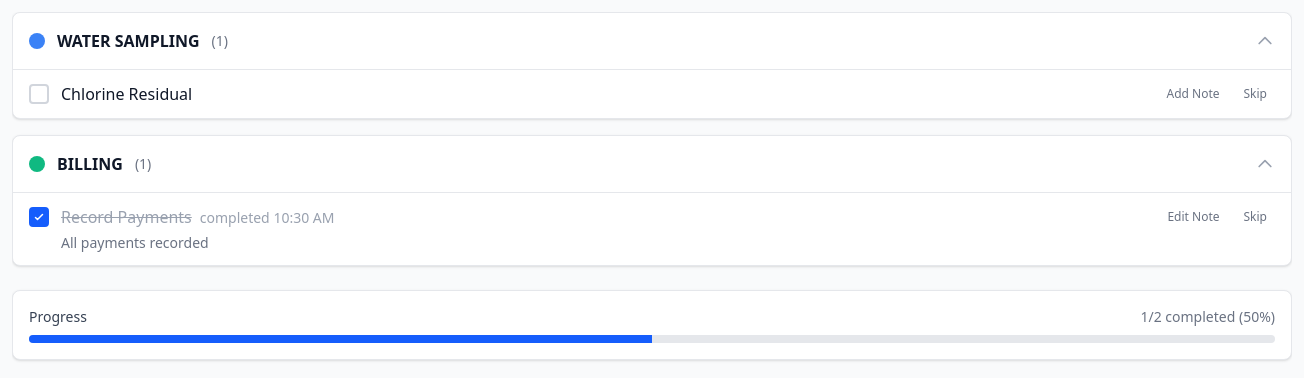
Test: DailyView › can expand and collapse category sections
Expected: the text "WATER SAMPLING" is shown, x1=57 y1=29 x2=200 y2=53
Expected: the button "Chlorine Residual" is shown, x1=61 y1=82 x2=192 y2=106
Click the button "WATER SAMPLING (1)". click: {"x": 128, "y": 41}
box: x1=13 y1=13 x2=1291 y2=69
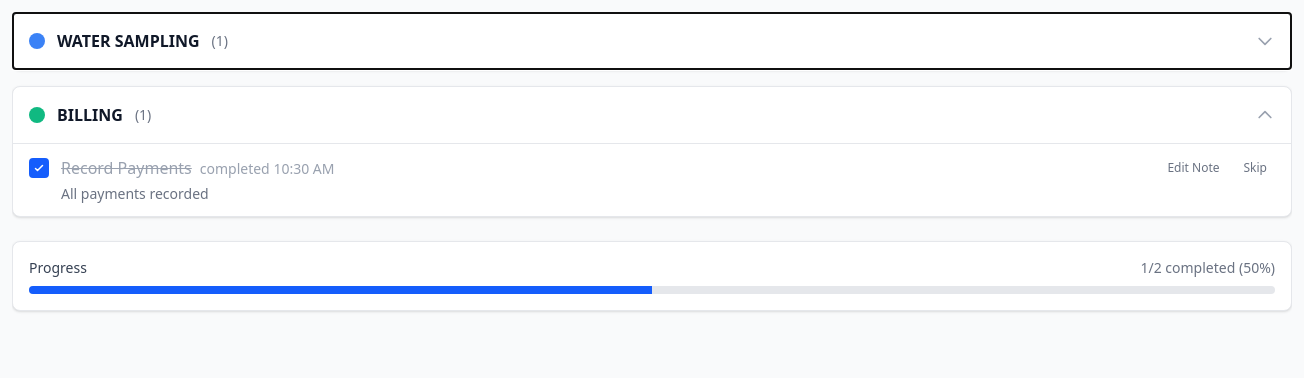
Expected: the button "Chlorine Residual" is gone
